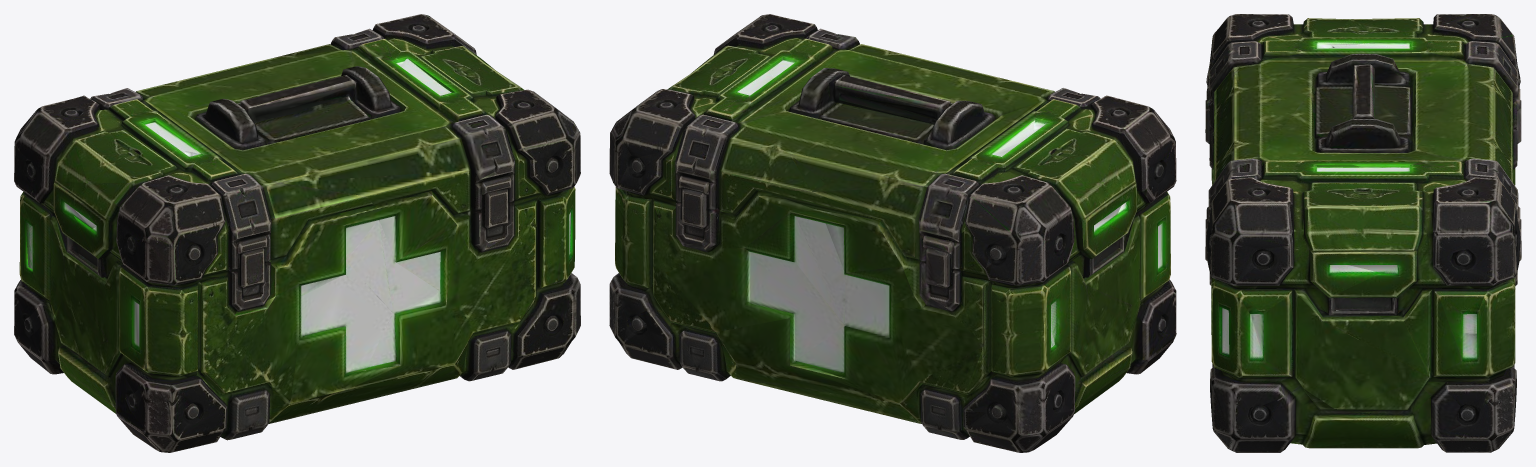
Rendered from medkit.glb.
3 renders of one model, left to right at view 1: azimuth 30°, elevation 25°; view 2: azimuth 150°, elevation 25°; view 3: azimuth 270°, elevation 25°, orthographic.
Visible parts, largest first — view 1: Mesh_0; view 2: Mesh_0; view 3: Mesh_0.
Part boxes in pixels (x1=…): Mesh_0: x1=14, y1=14, x2=580, y2=452; Mesh_0: x1=609, y1=14, x2=1176, y2=452; Mesh_0: x1=1205, y1=14, x2=1521, y2=452.
Bounding box in the file's own units: 1.9 × 1.12 × 1.19.
1 material, 1 textured.
